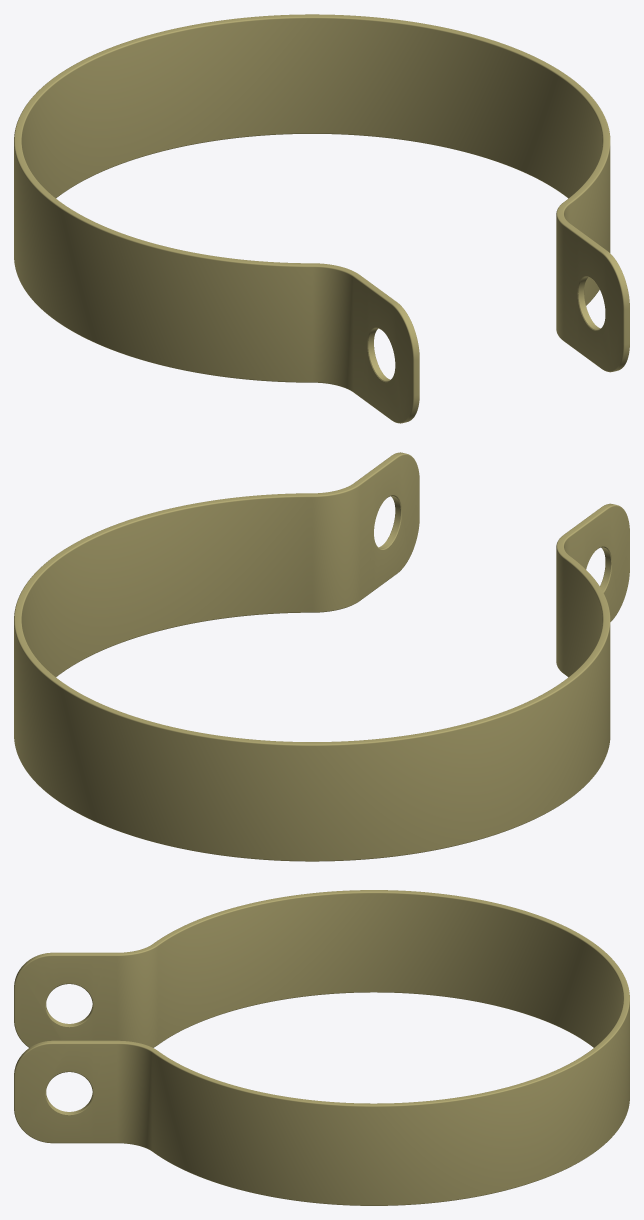
The model's file is engine-intake-clamp-band-uniform-gold-study.glb.
The picture shows the model from 3 angles, top to bottom: view 1: azimuth 30°, elevation 25°; view 2: azimuth 150°, elevation 25°; view 3: azimuth 270°, elevation 25°; orthographic projection. The views are drawn at different scales.
Parts seen in each view (by area): view 1: DP101198 related smooth band and formed ears - isolated; view 2: DP101198 related smooth band and formed ears - isolated; view 3: DP101198 related smooth band and formed ears - isolated.
Part boxes in pixels (bbox=[...]): DP101198 related smooth band and formed ears - isolated: bbox=[14, 14, 629, 423]; DP101198 related smooth band and formed ears - isolated: bbox=[14, 452, 629, 861]; DP101198 related smooth band and formed ears - isolated: bbox=[14, 890, 629, 1205].
Size of the model in its own units: 0.0462 by 0.01 by 0.0556.
